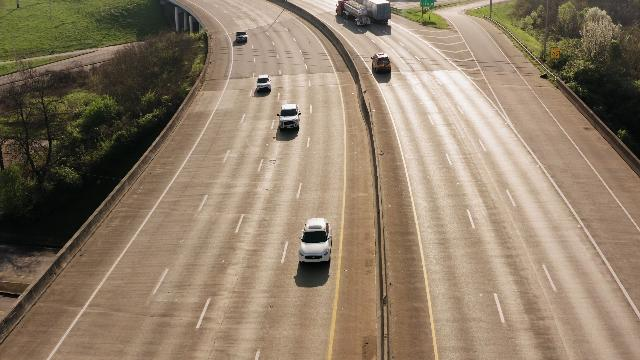car: (299, 214, 334, 268), (277, 103, 302, 136), (372, 49, 393, 75), (254, 73, 273, 97), (235, 30, 249, 46)
truck: (336, 0, 371, 28), (370, 1, 395, 25)
